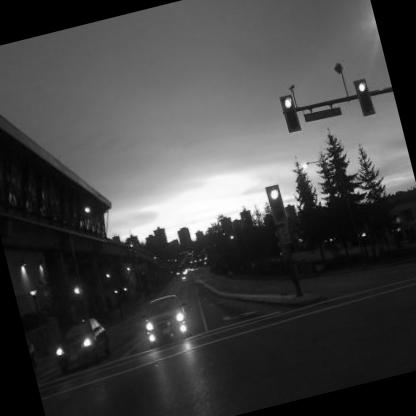car: (37, 303, 116, 381), (137, 280, 197, 351)
